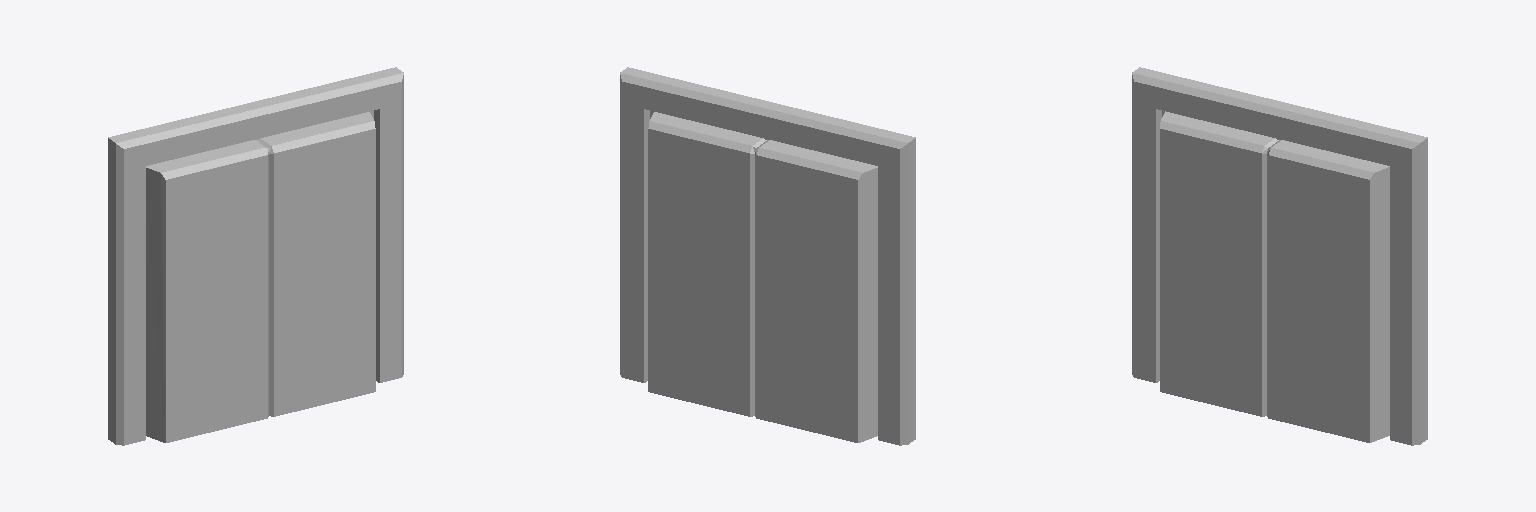
The model's file is Wall_Red.obj.
3 renders of one model, left to right at view 1: azimuth 30°, elevation 25°; view 2: azimuth 150°, elevation 25°; view 3: azimuth 330°, elevation 25°, orthographic.
Visible parts, largest first — view 1: Wall_Red; view 2: Wall_Red; view 3: Wall_Red.
Boxes of the visible parts, box(x1,y1,x2,y2) form: Wall_Red: box(108, 67, 403, 445); Wall_Red: box(620, 67, 915, 445); Wall_Red: box(1132, 67, 1427, 445).
Size of the model in its own units: 4 by 4 by 0.7166.